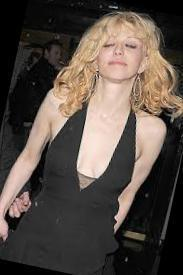Drunk: (96, 20, 141, 81)
